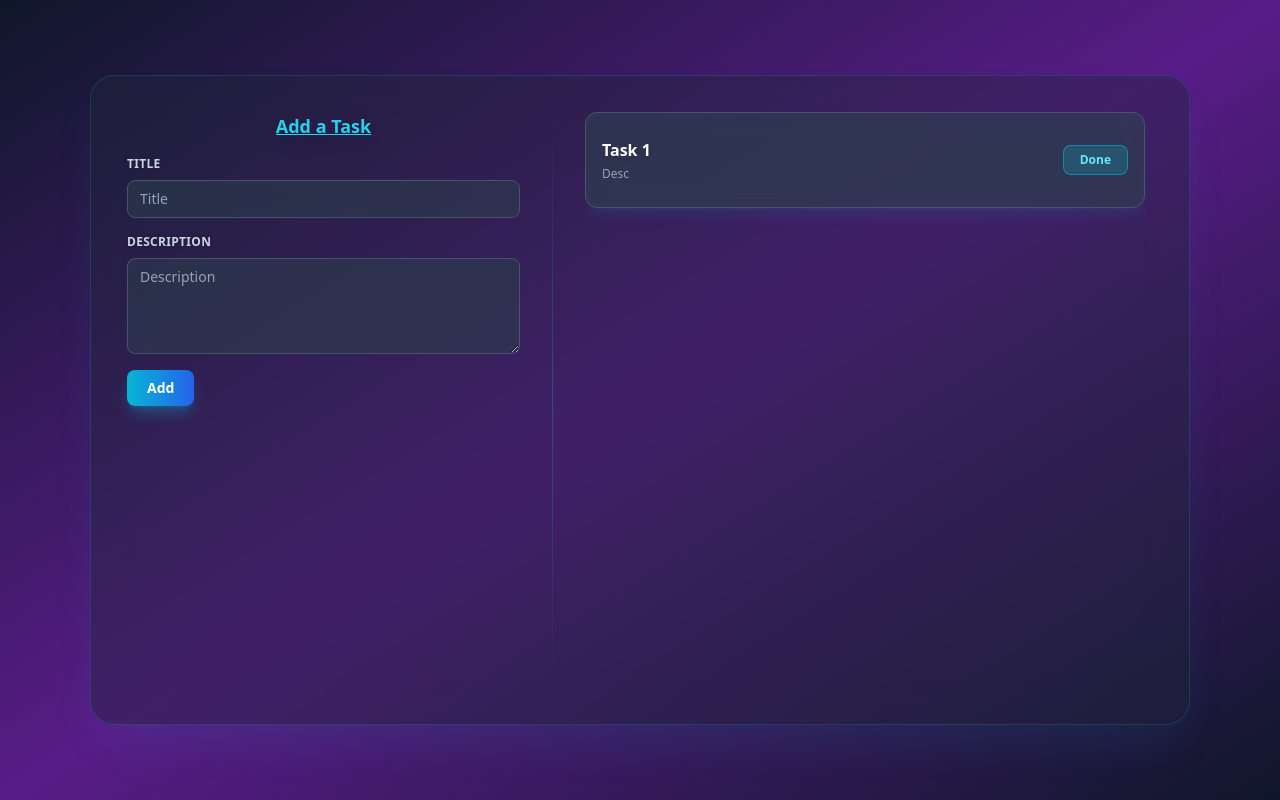
Scenario: handles completion failure gracefully
Expected: the text "Task 1" is shown, [602,139,651,161]
Click the button "Done": (1095, 160) [1063,145,1128,175]
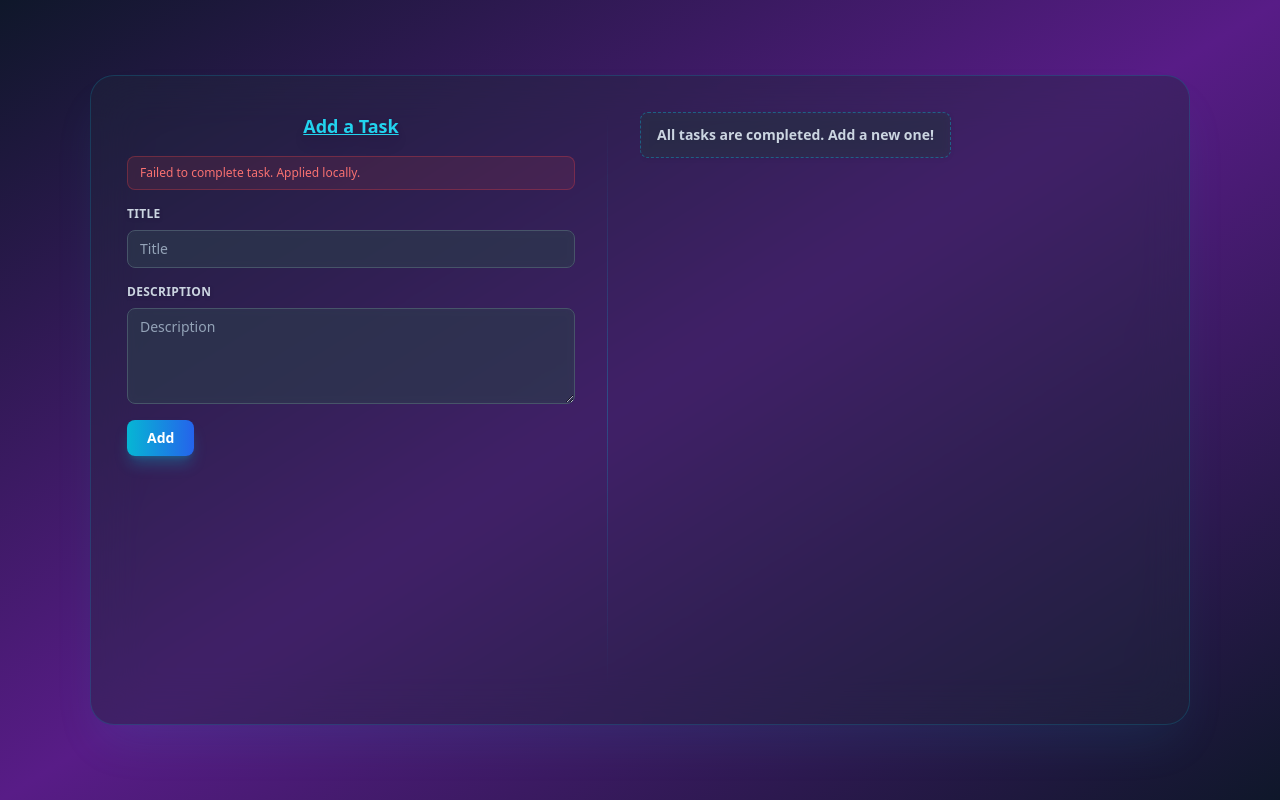
Expected: the text "Failed to complete task. Applied locally." is shown, [127,156,575,190]
